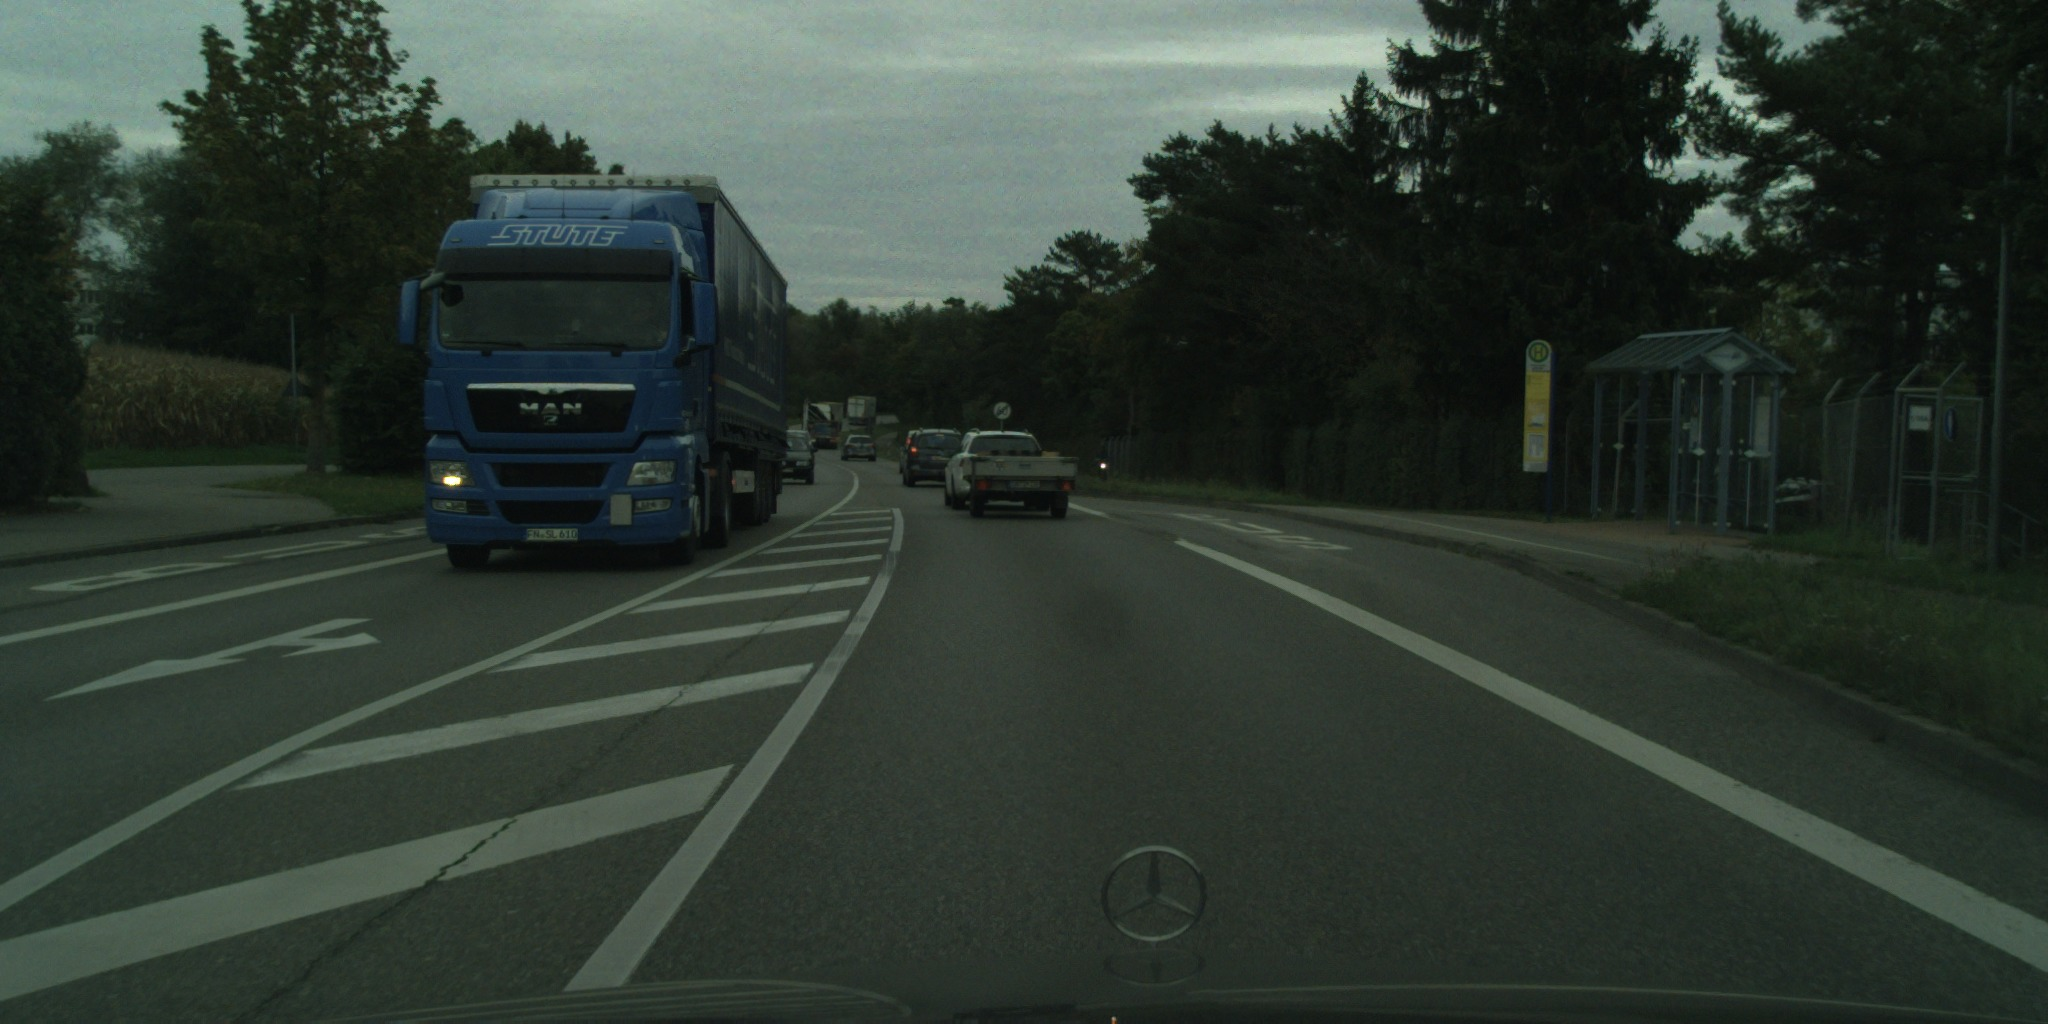car: (942, 427, 1049, 511), (903, 427, 965, 488), (776, 432, 819, 485), (899, 430, 930, 474), (782, 428, 818, 457), (841, 434, 876, 462)
truck: (398, 174, 788, 571), (799, 398, 842, 451), (810, 401, 845, 435), (845, 394, 878, 424)
